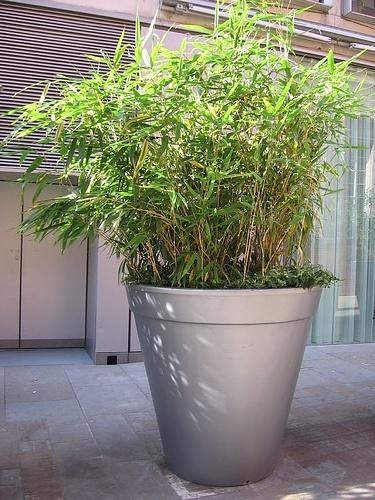pottedplant: (10, 6, 372, 498)
